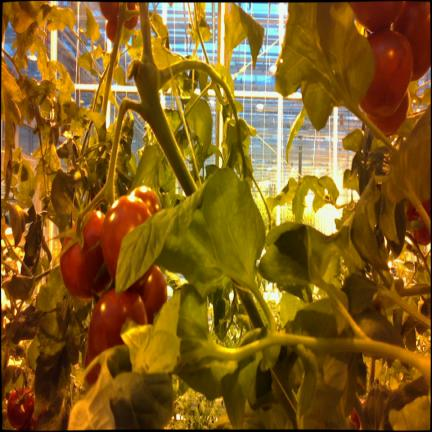MainStem: (135, 3, 197, 197), (271, 345, 297, 428)
tomato: (53, 183, 110, 299), (87, 290, 147, 382), (360, 30, 412, 116), (102, 195, 151, 280), (391, 2, 430, 80), (367, 90, 410, 136), (138, 266, 167, 323), (99, 2, 138, 42), (350, 2, 402, 31), (7, 388, 34, 429), (131, 186, 162, 214), (99, 2, 119, 19), (106, 18, 117, 42)
